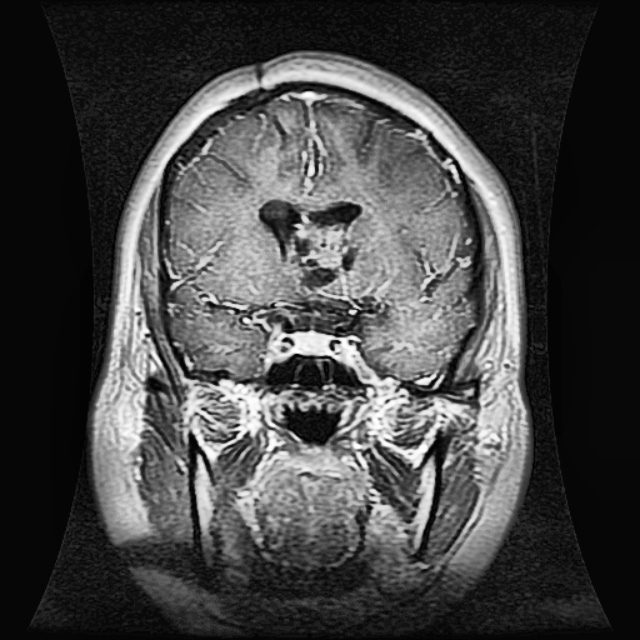Meningioma: (257, 194, 385, 315)
